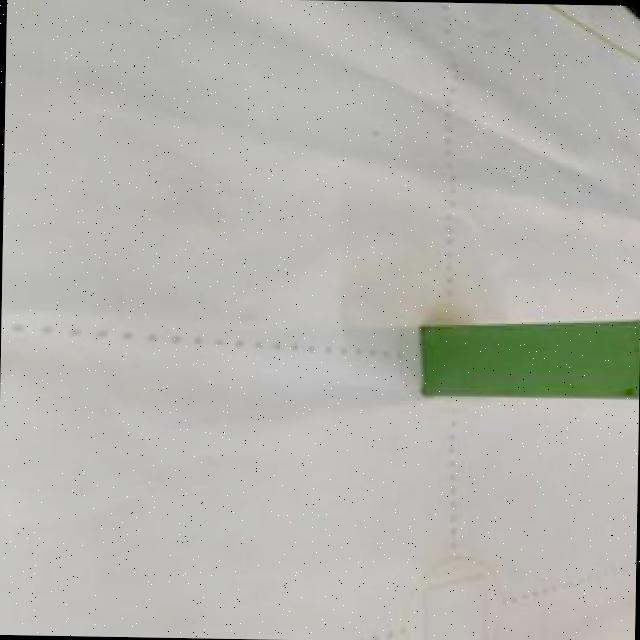greenbox: (416, 315, 640, 406)
